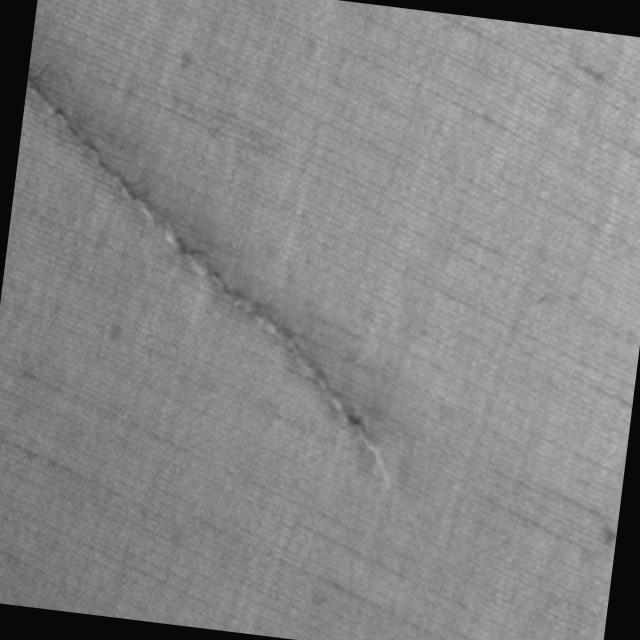objects: (0, 61, 442, 488)
